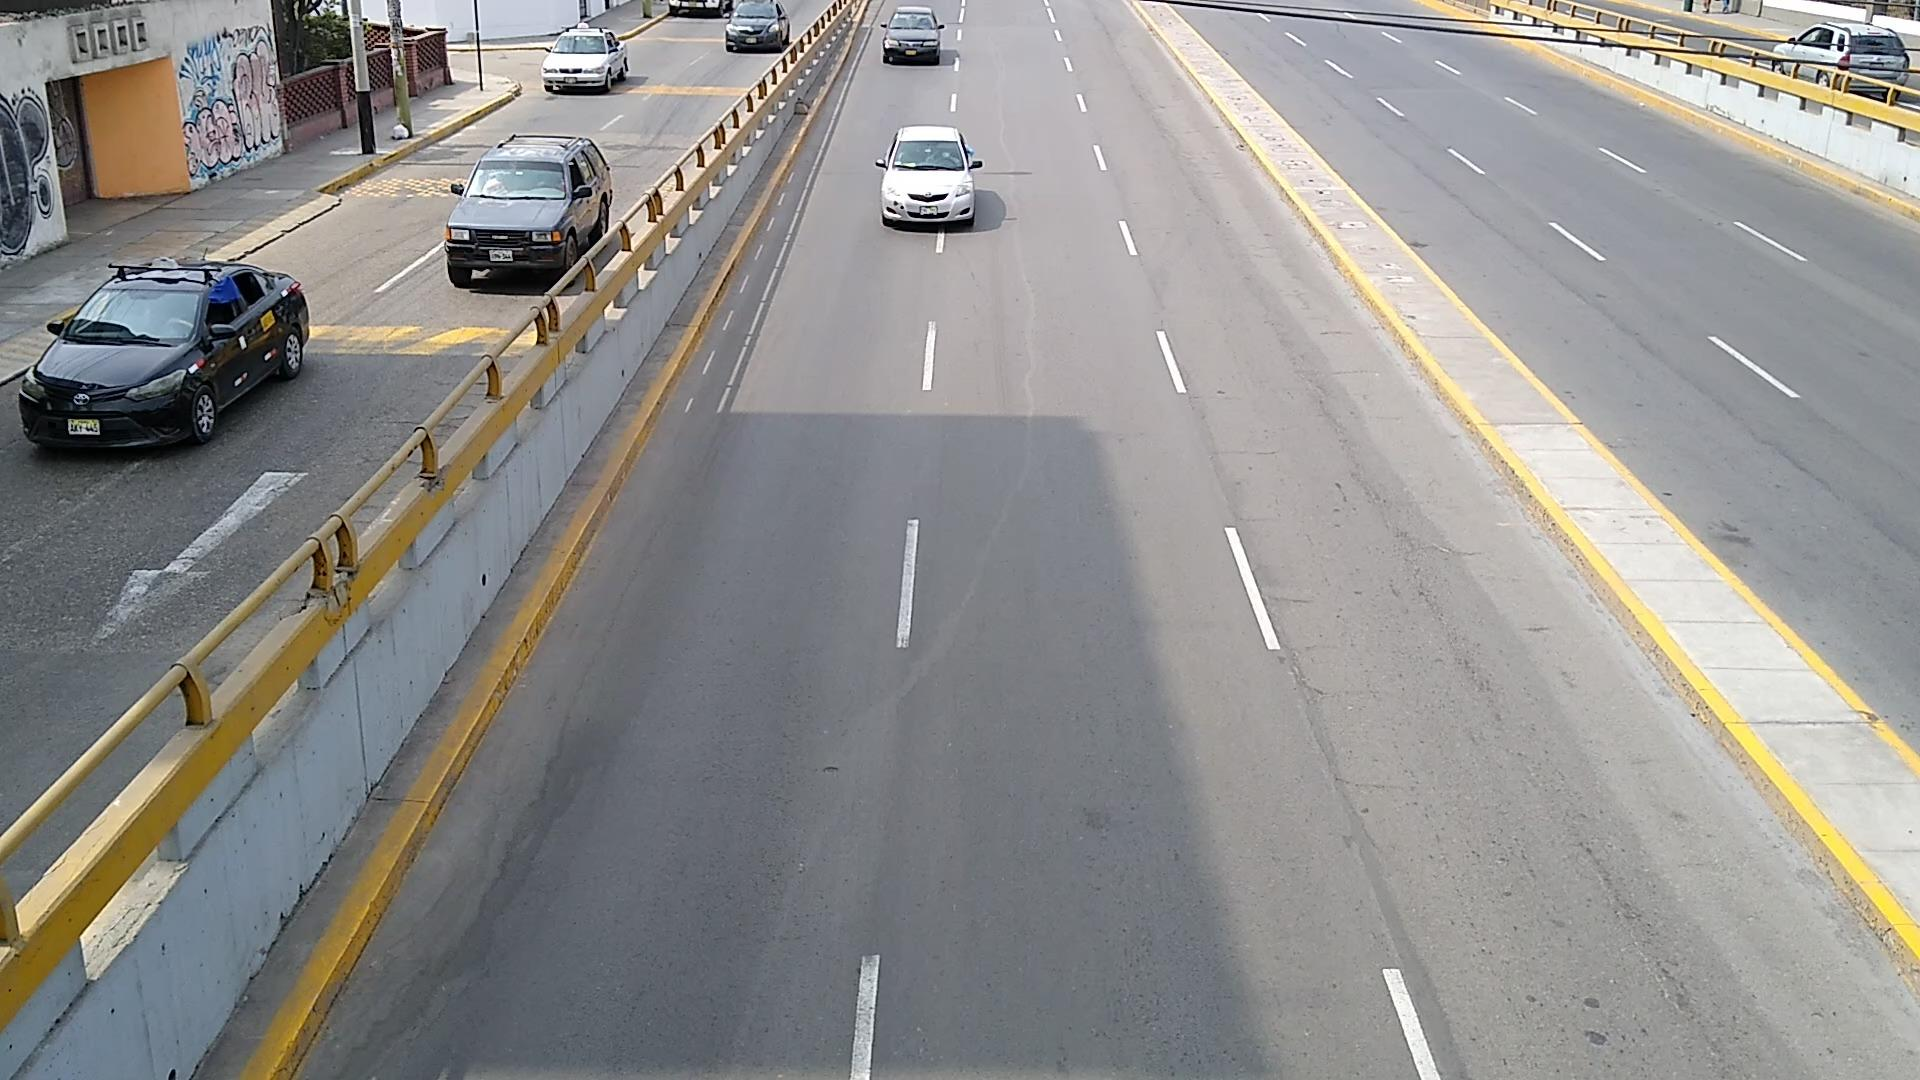car: (19, 262, 308, 446), (446, 135, 611, 285), (878, 128, 982, 225), (1774, 22, 1909, 82), (544, 26, 630, 94), (881, 8, 941, 64), (728, 0, 791, 51)
